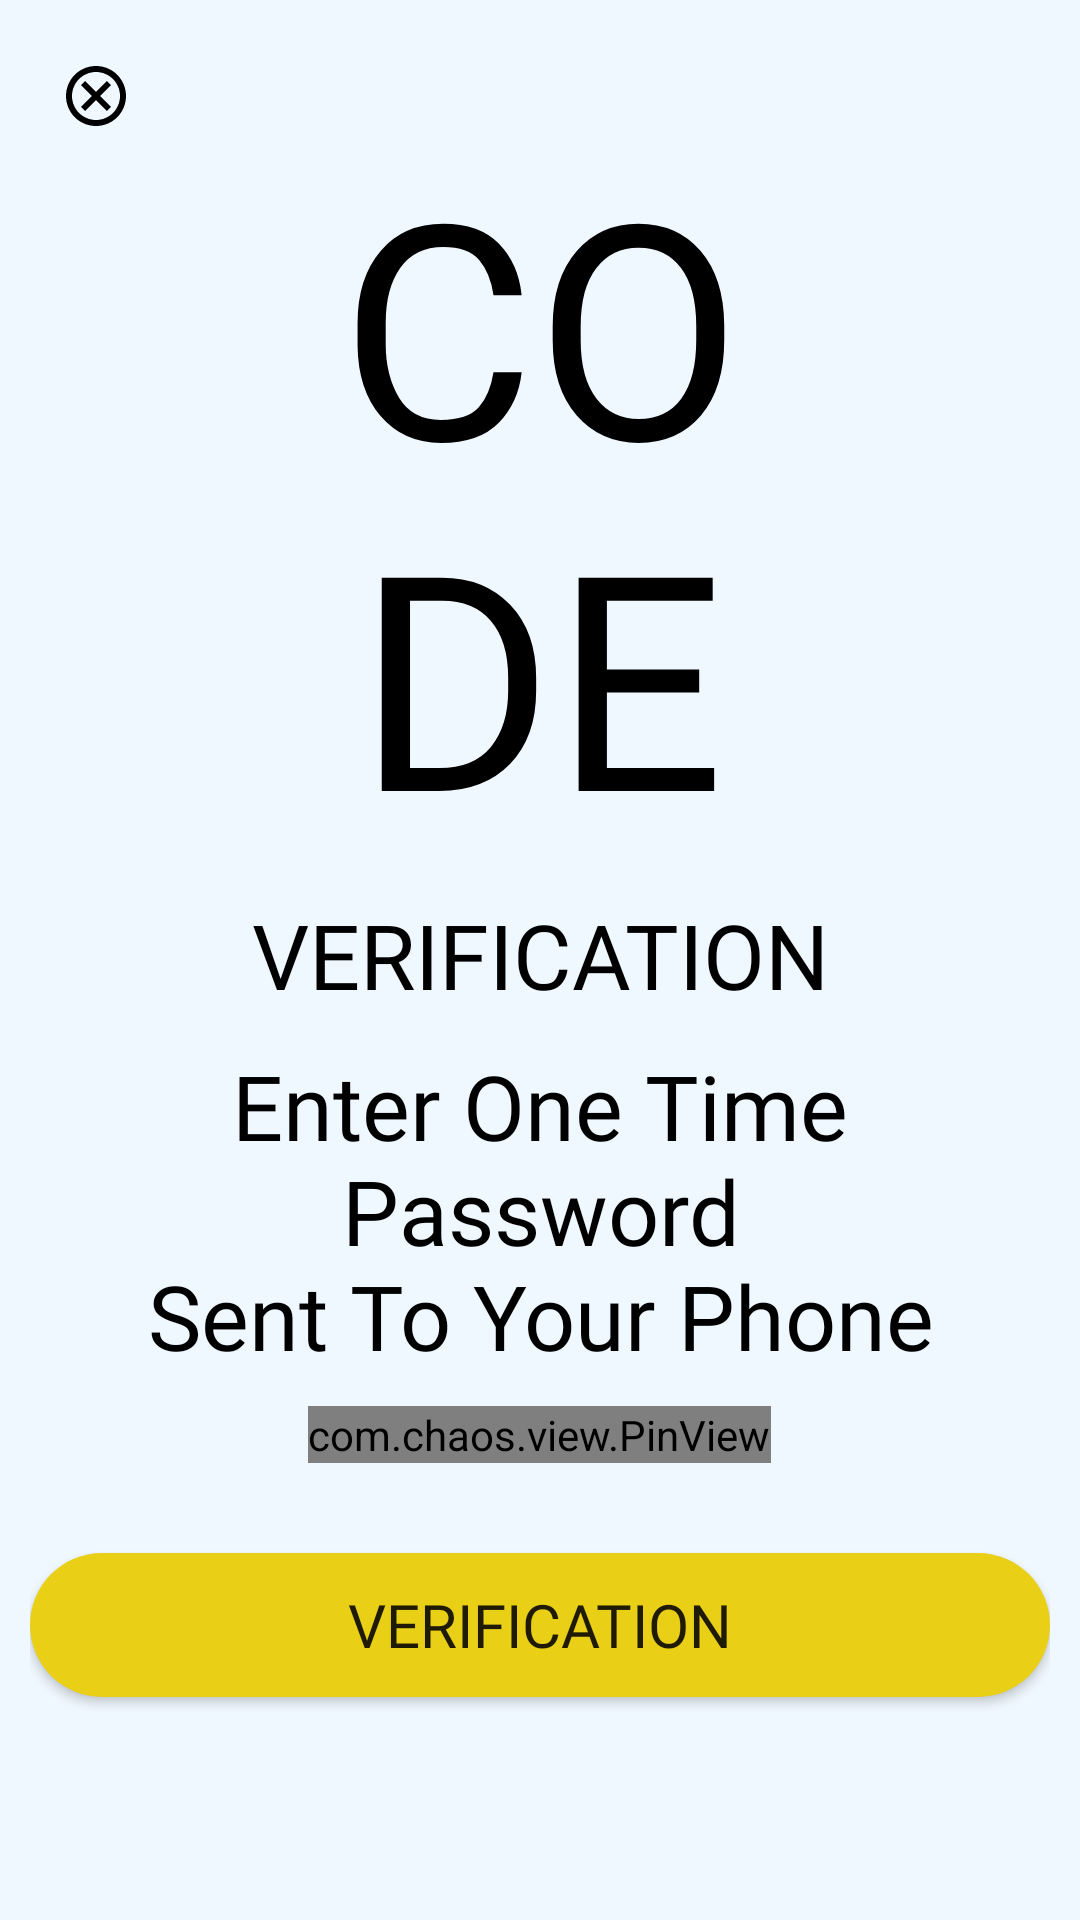

Screen size 1080w x 1920h. Icon name, then its box in pixels as (x1, y1, x2, y2):
cancel: (66, 66, 126, 126)
